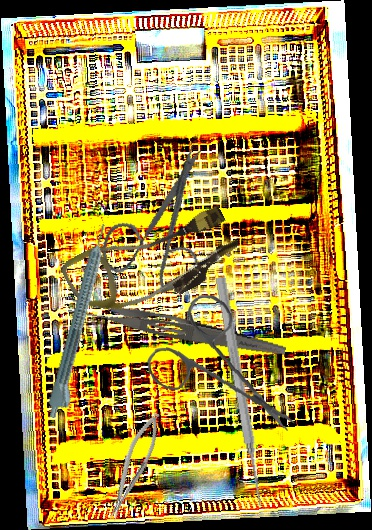Cannula: (58, 186, 247, 339)
Dressing Forceps: (66, 294, 289, 360)
Handpiece: (44, 222, 120, 422)
Iris Scissors: (80, 142, 237, 305), (141, 288, 296, 443)
Needle Holder: (98, 408, 169, 524)
Pusher: (212, 275, 268, 508)
